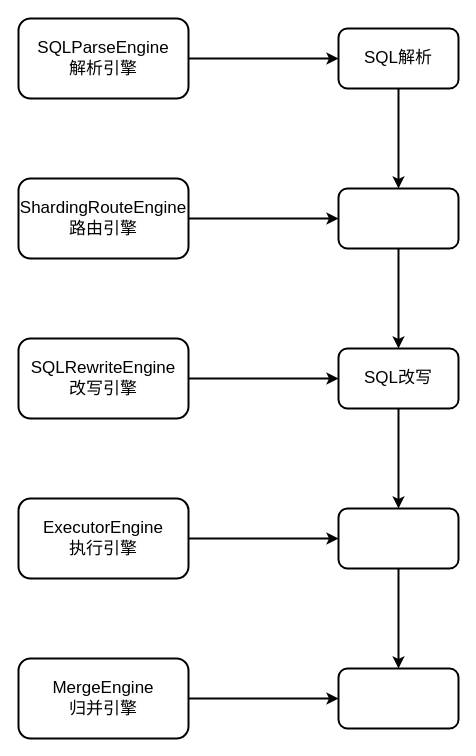
Some shapes in this 476 by 756 pixel diagram are drawn without their labels. Each missing label, with the centre of its shape:
"SQL执行" goes at pixel 398 538.
"SQL路由" goes at pixel 398 218.
"结果归并" goes at pixel 398 698.
